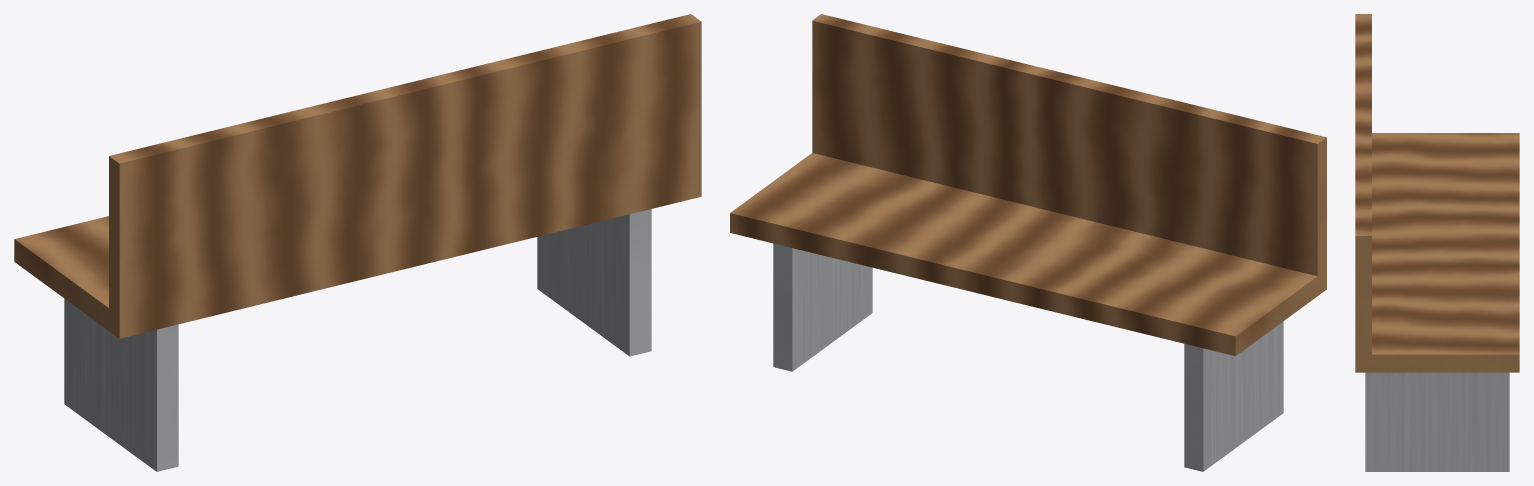
The model's file is model-baked-bench-deepseekv4flash.glb.
3 views of the same model, side by side, from view 1: azimuth 30°, elevation 25°; view 2: azimuth 150°, elevation 25°; view 3: azimuth 270°, elevation 25° (orthographic). The views are drawn at different scales.
Parts seen in each view (by area): view 1: Bench; view 2: Bench; view 3: Bench.
Boxes of the visible parts, x1,y1,x2,y2 form: Bench: [14, 14, 701, 471]; Bench: [730, 14, 1326, 471]; Bench: [1355, 14, 1519, 471].
Size of the model in its own units: 1.6 by 0.85 by 0.5.
Materials: 1 (1 with a texture image).
